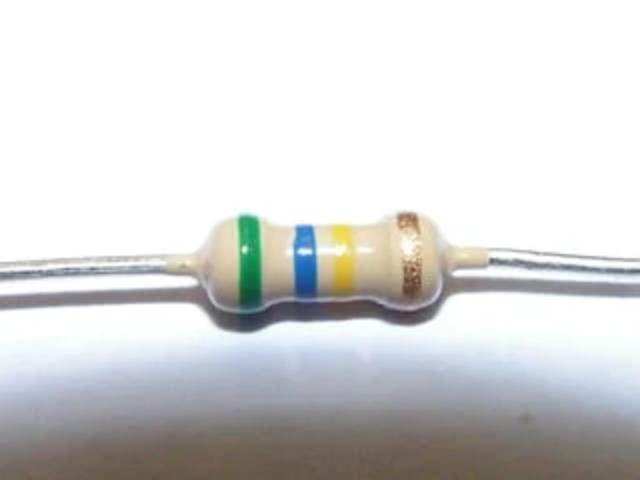blue: (295, 225, 319, 300)
gold: (397, 212, 422, 312)
green: (239, 215, 262, 314)
resistor: (167, 198, 489, 326)
yellow: (332, 224, 354, 303)
